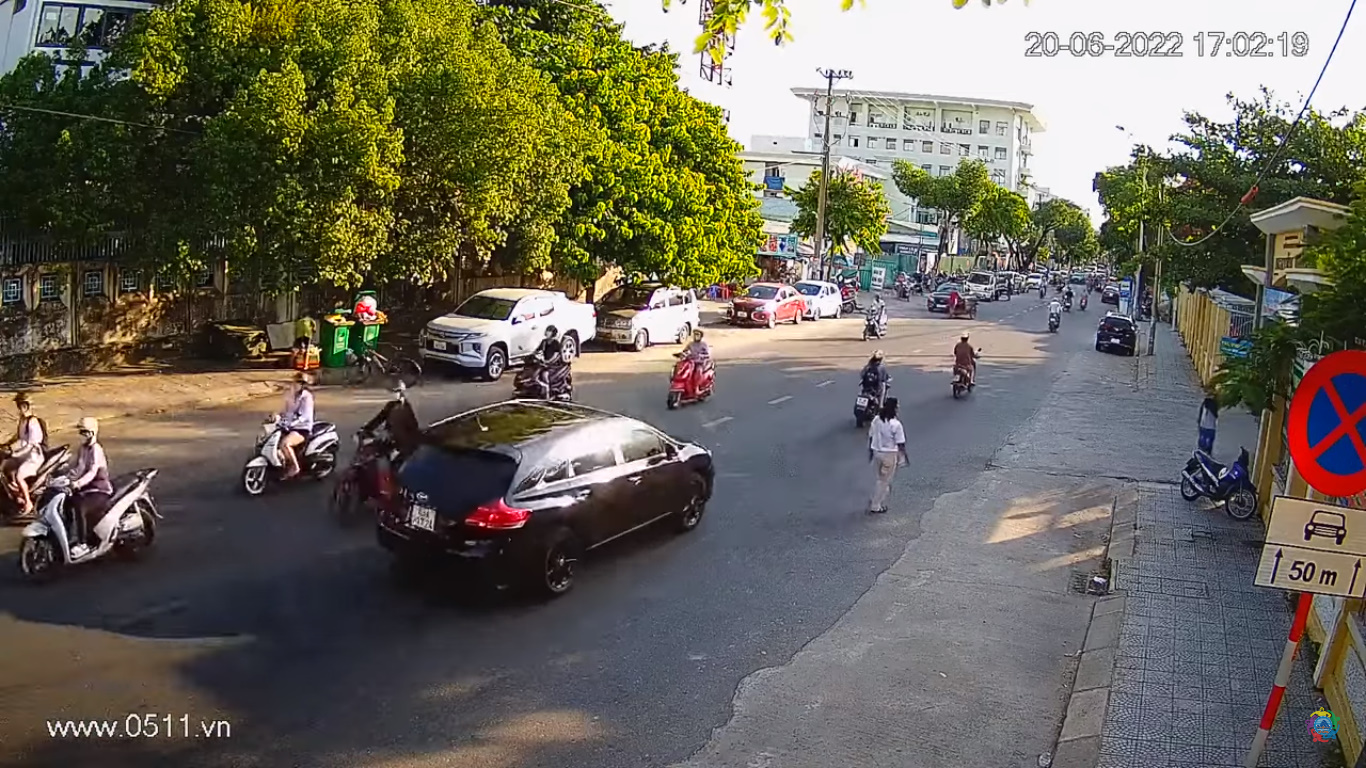car: (382, 412, 719, 593)
